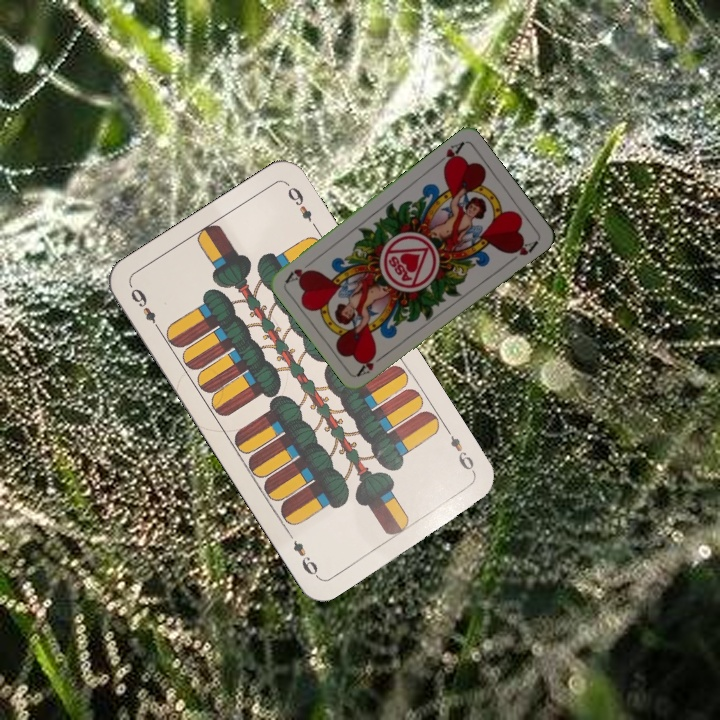E9: (126, 282, 164, 335), (442, 424, 479, 478)
HA: (432, 138, 467, 170), (354, 349, 390, 378)
